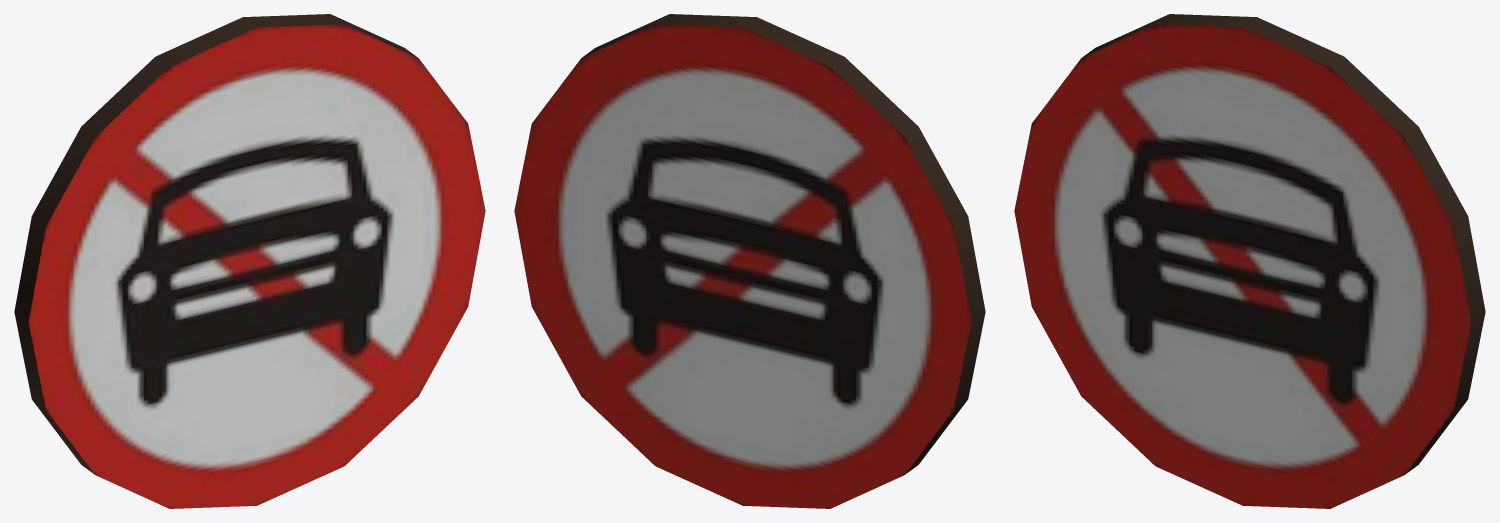
Rendered from mesh_ban02.FBX.
The picture shows the model from 3 angles, left to right: view 1: azimuth 30°, elevation 25°; view 2: azimuth 150°, elevation 25°; view 3: azimuth 330°, elevation 25°; orthographic projection.
Parts seen in each view (by area): view 1: mesh_ban02; view 2: mesh_ban02; view 3: mesh_ban02.
Boxes of the visible parts, left/top/right/bottom form: mesh_ban02: left=14, top=14, right=485, bottom=508; mesh_ban02: left=514, top=14, right=985, bottom=508; mesh_ban02: left=1014, top=14, right=1485, bottom=508.
Bounding box in the file's own units: 71.12 × 71.12 × 3.83.
